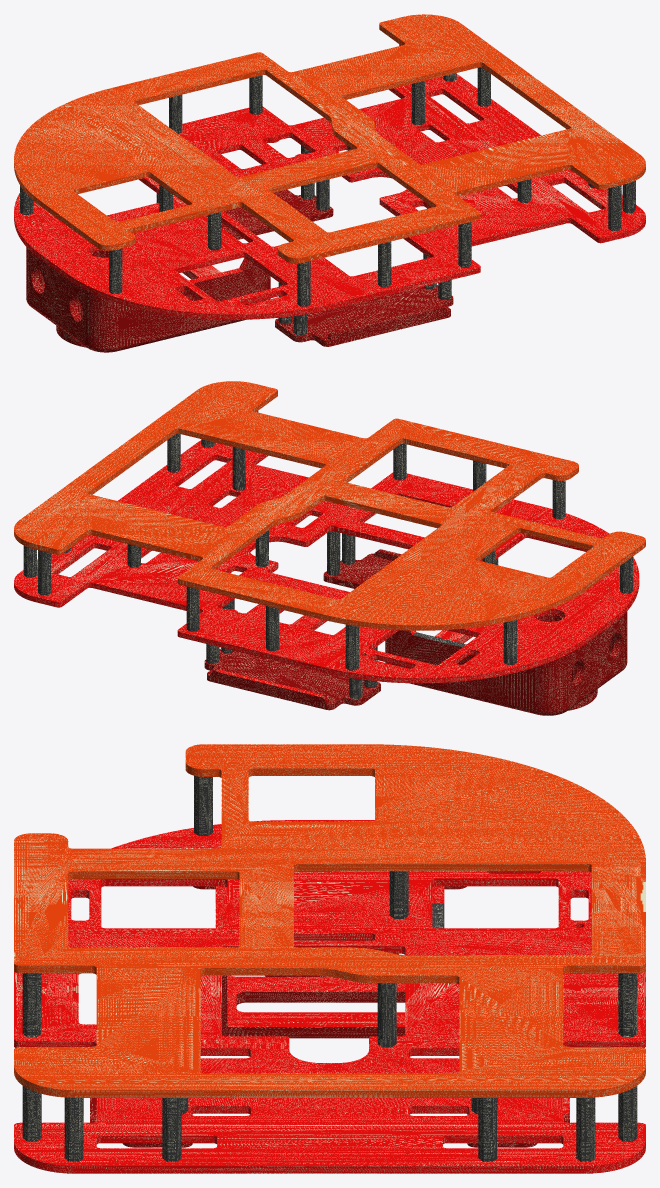
File: next_urdf.dae
3 views of the same model, one above another, from view 1: azimuth 30°, elevation 25°; view 2: azimuth 150°, elevation 25°; view 3: azimuth 270°, elevation 25° (orthographic). The views are drawn at different scales.
Visible parts, largest first — view 1: Component_1 (×21); view 2: Component_1 (×21); view 3: Component_1 (×25).
Part boxes in pixels (x1,y1,x2,y2): Component_1 (×21): (14,14,645,352); Component_1 (×21): (14,381,645,715); Component_1 (×25): (14,744,645,1173).
Bounding box in the file's own units: 10.71 × 8.27 × 2.69.
